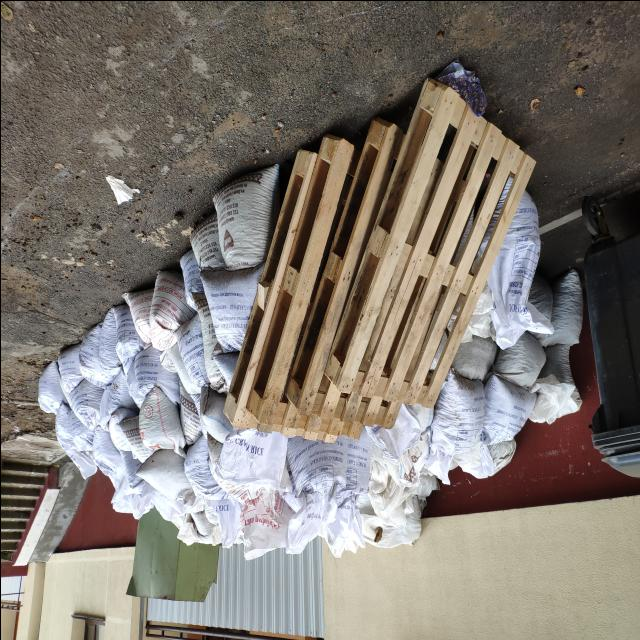entulho: (324, 79, 534, 402), (220, 123, 381, 445), (38, 299, 155, 506), (478, 180, 542, 350), (287, 436, 373, 548), (428, 378, 536, 462), (206, 440, 286, 551), (145, 348, 212, 444), (366, 476, 428, 550), (136, 443, 202, 508), (530, 344, 581, 426), (160, 491, 240, 542), (376, 412, 432, 483), (152, 268, 196, 350), (540, 267, 585, 347), (491, 335, 547, 388)
